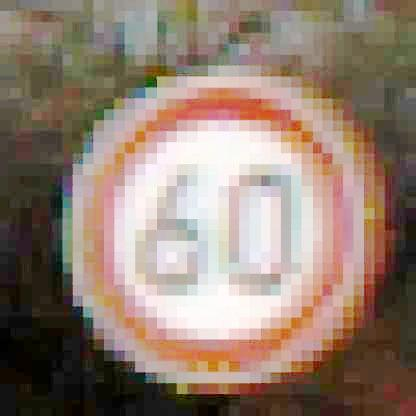Speed Limit -60-: (59, 69, 369, 389)
